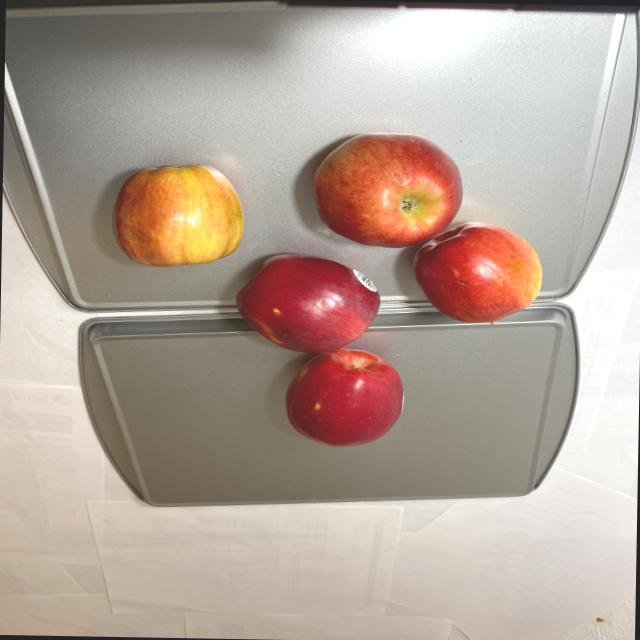apple: (102, 134, 540, 450)
